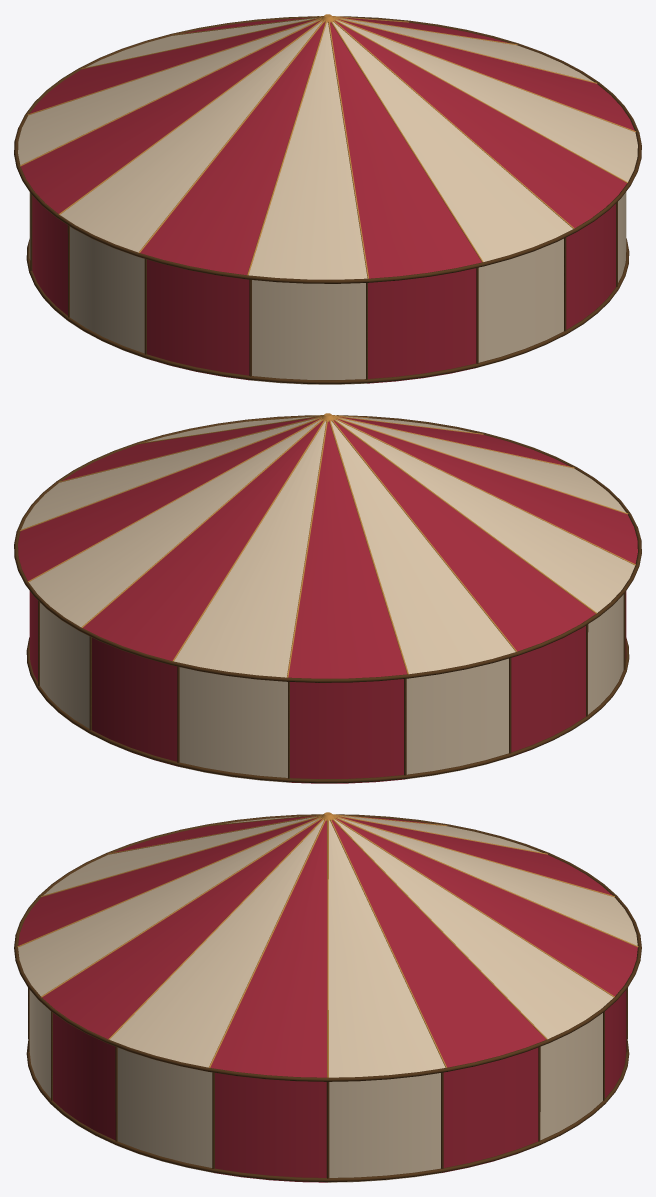
File: mia-big_top.glb
3 renders of one model, top to bottom at view 1: azimuth 30°, elevation 25°; view 2: azimuth 150°, elevation 25°; view 3: azimuth 270°, elevation 25°, orthographic.
Parts seen in each view (by area): view 1: Body_tent-red, Body_tent-ivory, Body_wood, Body_brass; view 2: Body_tent-ivory, Body_tent-red, Body_wood, Body_brass; view 3: Body_tent-ivory, Body_tent-red, Body_wood, Body_brass.
Boxes of the visible parts, left/top/right/bottom form: Body_tent-red: left=21, top=17, right=634, bottom=383; Body_tent-ivory: left=18, top=18, right=637, bottom=384; Body_wood: left=14, top=16, right=641, bottom=384; Body_brass: left=20, top=14, right=635, bottom=278; Body_tent-ivory: left=21, top=416, right=634, bottom=782; Body_tent-red: left=18, top=417, right=637, bottom=783; Body_wood: left=14, top=415, right=641, bottom=783; Body_brass: left=20, top=413, right=635, bottom=677; Body_tent-ivory: left=18, top=815, right=637, bottom=1182; Body_tent-red: left=18, top=815, right=637, bottom=1182; Body_wood: left=14, top=814, right=641, bottom=1182; Body_brass: left=17, top=812, right=638, bottom=1077.
Size of the model in its own units: 18.95 by 8.08 by 18.95.
